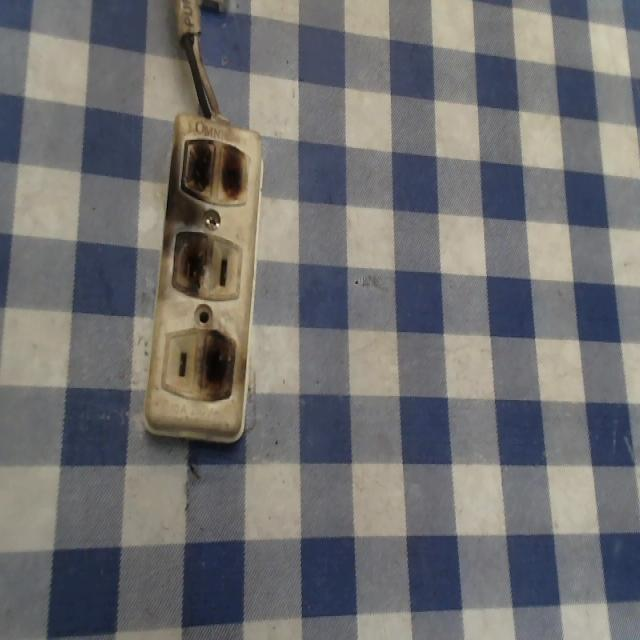-: (161, 124, 260, 215), (162, 229, 218, 299), (199, 328, 237, 403)
